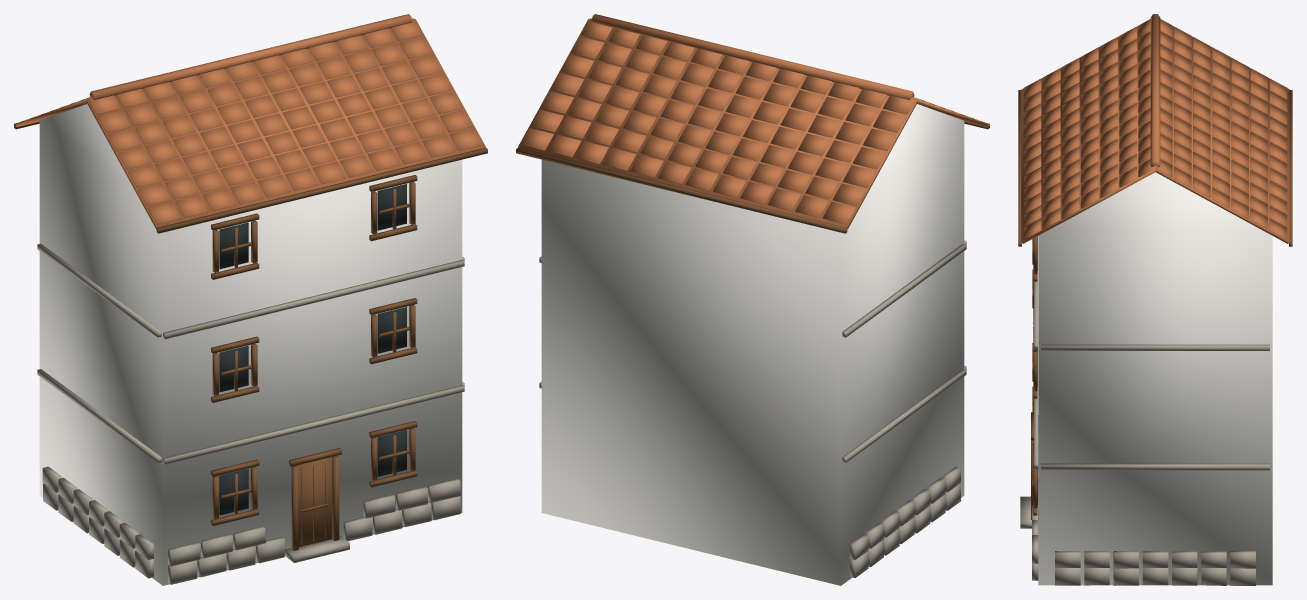
The model's file is house-peru-02.glb.
3 views of the same model, side by side, from view 1: azimuth 30°, elevation 25°; view 2: azimuth 150°, elevation 25°; view 3: azimuth 270°, elevation 25° (orthographic). The views are drawn at different scales.
Parts seen in each view (by area): view 1: House_Walls_White, House_Roof, House_Stone, House_Wood, House_Windows; view 2: House_Walls_White, House_Roof, House_Stone, House_Wood; view 3: House_Walls_White, House_Roof, House_Stone, House_Wood.
Boxes of the visible parts, x1,y1,x2,y2 form: House_Walls_White: (39,104,462,585); House_Roof: (16,14,485,229); House_Stone: (37,243,464,584); House_Wood: (14,121,487,550); House_Windows: (219,184,406,515); House_Walls_White: (541,104,964,585); House_Roof: (518,14,987,229); House_Stone: (539,240,966,577); House_Wood: (516,121,989,233); House_Walls_White: (1038,172,1272,585); House_Roof: (1021,14,1289,243); House_Stone: (1020,236,1269,585); House_Wood: (1018,90,1292,519).
Bounding box in the file's own units: 7.7 × 10.07 × 5.84.
